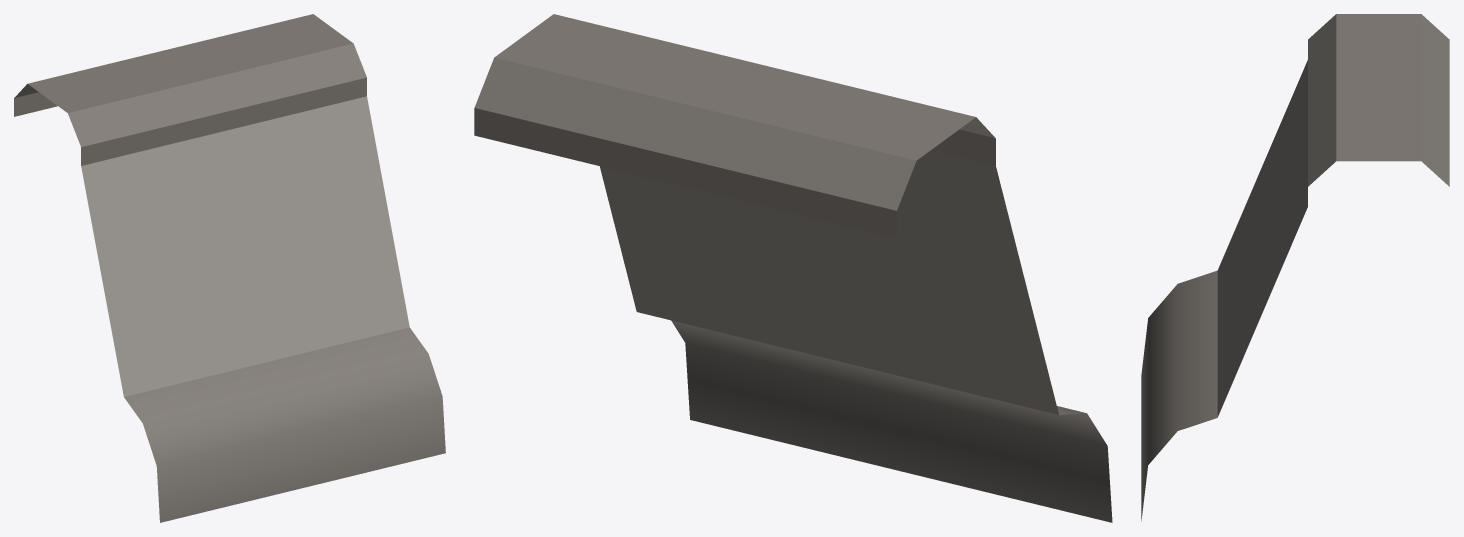
File: Base Wall 01.FBX
3 renders of one model, left to right at view 1: azimuth 30°, elevation 25°; view 2: azimuth 150°, elevation 25°; view 3: azimuth 270°, elevation 25°, orthographic. The views are drawn at different scales.
Parts seen in each view (by area): view 1: Base Wall 01; view 2: Base Wall 01; view 3: Base Wall 01.
Part boxes in pixels (x1,y1,x2,y2): Base Wall 01: [14, 14, 445, 522]; Base Wall 01: [474, 14, 1112, 522]; Base Wall 01: [1141, 14, 1449, 521].
Bounding box in the file's own units: 100 × 114 × 88.39.
Materials: 1 (1 with a texture image).
